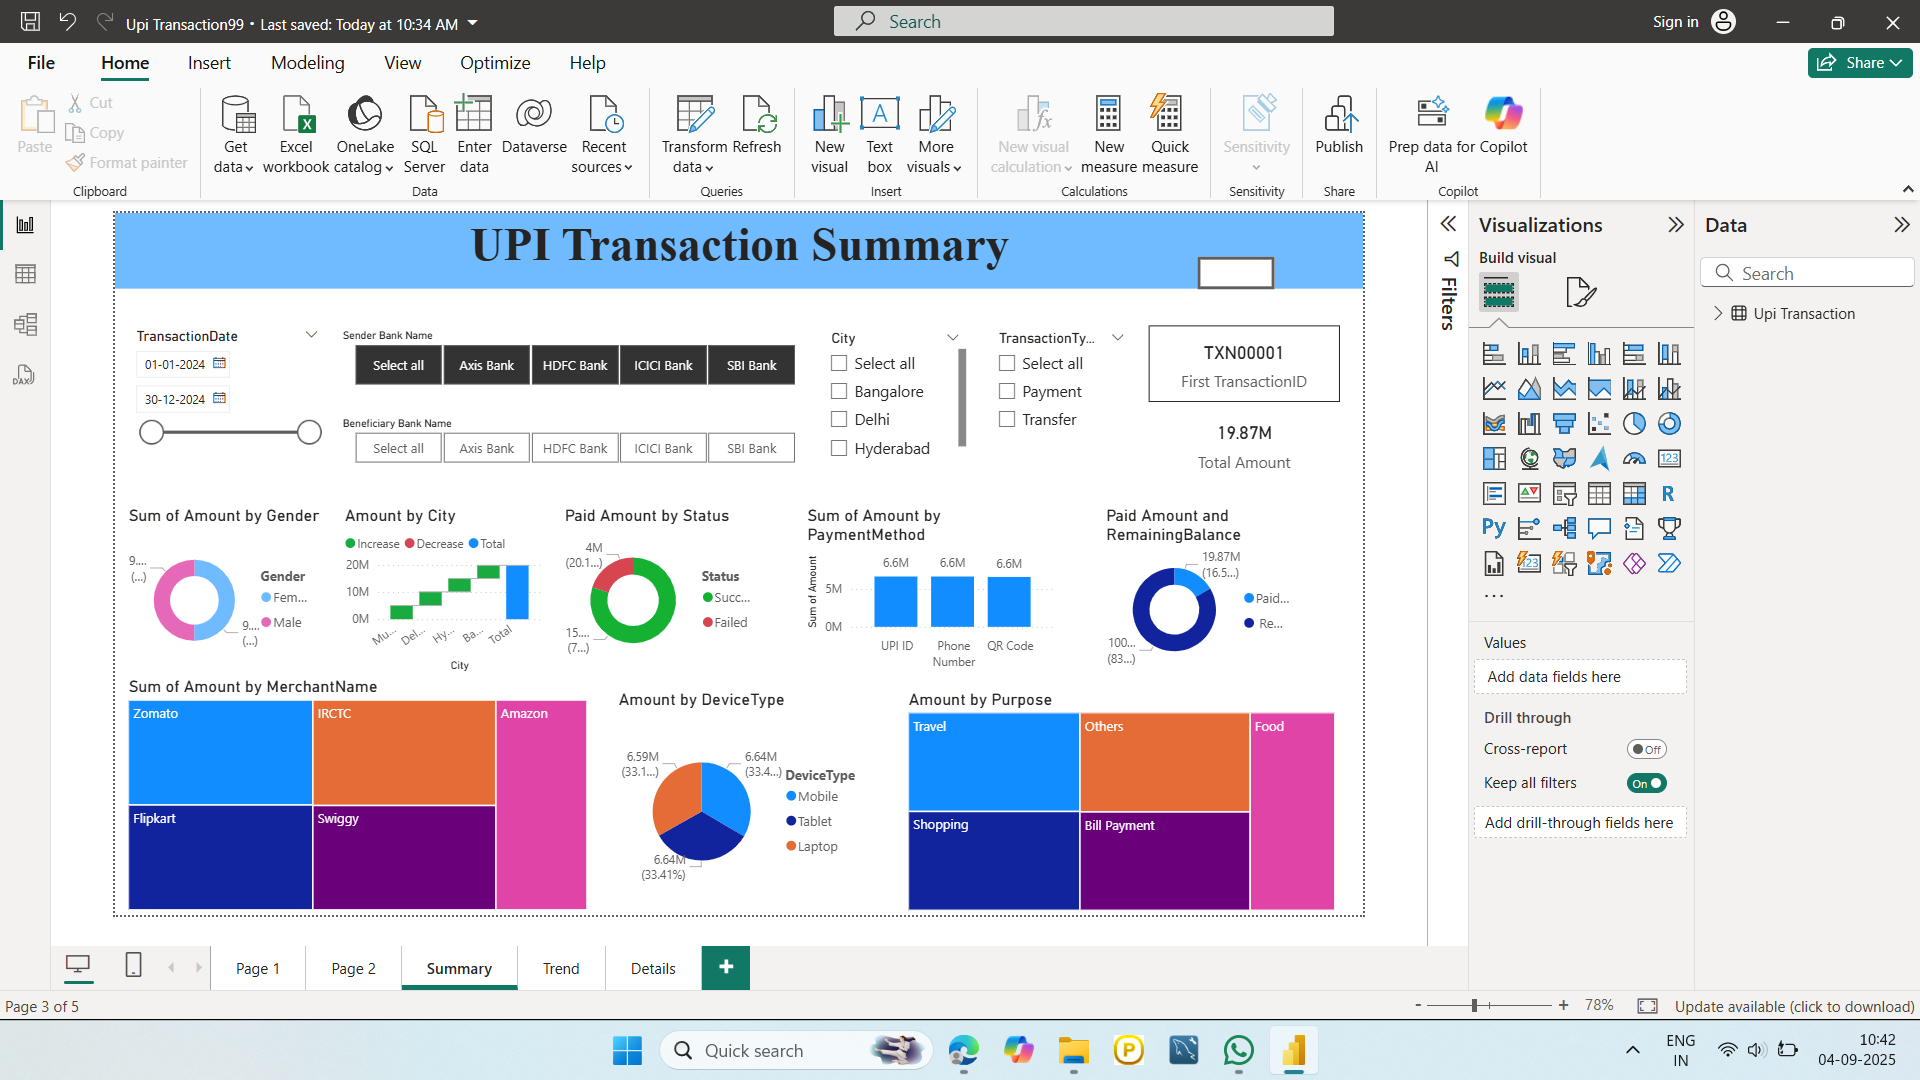

What the dashboard file says about the page in this screenshot:
{"tool":"powerbi","page":{"name":"Summary","canvas":[1280,720],"ordinal":2},"visuals":[{"type":"textbox","box":[0,43.9,1280.3,68.6],"z":0},{"type":"slicer","fields":{"Values":["Upi Transaction.TransactionDate"]},"box":[9.6,112.5,211.3,150.9],"z":1000},{"type":"slicer","fields":{"Values":["Upi Transaction.BankNameSent"]},"box":[220.9,113.9,500.9,68.6],"z":2000},{"type":"slicer","fields":{"Values":["Upi Transaction.BankNameSent"]},"box":[220.9,204.5,500.9,59],"z":3000},{"type":"slicer","fields":{"Values":["Upi Transaction.City"]},"box":[721.8,115.3,156.4,149.6],"z":4000},{"type":"donutChart","fields":{"Category":["Upi Transaction.Gender"],"Y":["Sum(Upi Transaction.Amount)"]},"box":[9.6,300.5,211.3,175.6],"z":5000},{"type":"slicer","fields":{"Values":["Upi Transaction.TransactionType"]},"box":[893.3,115.3,153.7,150.9],"z":6000},{"type":"waterfallChart","fields":{"Y":["Sum(Upi Transaction.Amount)"],"Category":["Upi Transaction.City"]},"box":[230.5,300.5,211.3,175.6],"z":7000},{"type":"donutChart","fields":{"Y":["Sum(Upi Transaction.Amount)"],"Category":["Upi Transaction.Status"]},"box":[456.9,300.5,211.3,175.6],"z":8000},{"type":"clusteredColumnChart","fields":{"Y":["Sum(Upi Transaction.Amount)"],"Category":["Upi Transaction.PaymentMethod"]},"box":[705.3,300.5,264.8,175.6],"z":9000},{"type":"donutChart","fields":{"Y":["Sum(Upi Transaction.Amount)","Sum(Upi Transaction.RemainingBalance)"]},"box":[1011.3,300.5,211.3,175.6],"z":10000},{"type":"treemap","fields":{"Group":["Upi Transaction.MerchantName"],"Values":["Sum(Upi Transaction.Amount)"]},"box":[9.6,476.2,480.3,244.3],"z":11000},{"type":"card","fields":{"Values":["Min(Upi Transaction.TransactionID)"]},"box":[1060.7,115.3,196.2,78.2],"z":12000},{"type":"card","fields":{"Values":["Sum(Upi Transaction.Amount)"]},"box":[1060.7,204.5,196.2,65.9],"z":13000},{"type":"pieChart","fields":{"Y":["Sum(Upi Transaction.Amount)"],"Category":["Upi Transaction.DeviceType"]},"box":[511.8,488.5,264.8,231.9],"z":14000},{"type":"treemap","fields":{"Values":["Sum(Upi Transaction.Amount)"],"Group":["Upi Transaction.Purpose"]},"box":[809.6,488.5,447.3,231.9],"z":15000},{"type":"actionButton","title":"Trending","box":[1109.9,44.4,79,33.3],"z":16000}]}

Visuals, with their boxes on the page's 1280x720 design canvas (x1, y1, x2, y2). These are canvas units, not pixel positions in the 1920x1080 screenshot, which may show the page scaled, cropped or inside an application window:
textbox: 0, 44, 1280, 112
slicer - Upi Transaction.TransactionDate: 10, 112, 221, 263
slicer - Upi Transaction.BankNameSent: 221, 114, 722, 182
slicer - Upi Transaction.BankNameSent: 221, 204, 722, 264
slicer - Upi Transaction.City: 722, 115, 878, 265
donutChart - Upi Transaction.Gender x Sum(Upi Transaction.Amount): 10, 300, 221, 476
slicer - Upi Transaction.TransactionType: 893, 115, 1047, 266
waterfallChart - Sum(Upi Transaction.Amount) x Upi Transaction.City: 230, 300, 442, 476
donutChart - Sum(Upi Transaction.Amount) x Upi Transaction.Status: 457, 300, 668, 476
clusteredColumnChart - Sum(Upi Transaction.Amount) x Upi Transaction.PaymentMethod: 705, 300, 970, 476
donutChart - Sum(Upi Transaction.Amount) x Sum(Upi Transaction.RemainingBalance): 1011, 300, 1223, 476
treemap - Upi Transaction.MerchantName x Sum(Upi Transaction.Amount): 10, 476, 490, 720
card - Min(Upi Transaction.TransactionID): 1061, 115, 1257, 194
card - Sum(Upi Transaction.Amount): 1061, 204, 1257, 270
pieChart - Sum(Upi Transaction.Amount) x Upi Transaction.DeviceType: 512, 488, 777, 720
treemap - Sum(Upi Transaction.Amount) x Upi Transaction.Purpose: 810, 488, 1257, 720
"Trending" actionButton: 1110, 44, 1189, 78
